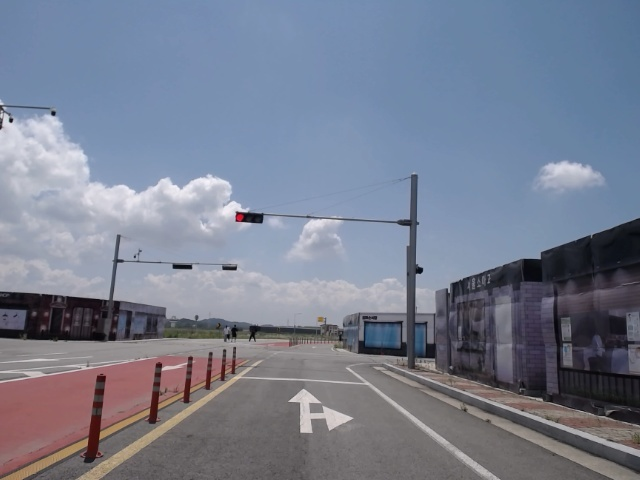red_3: (234, 210, 264, 224)
